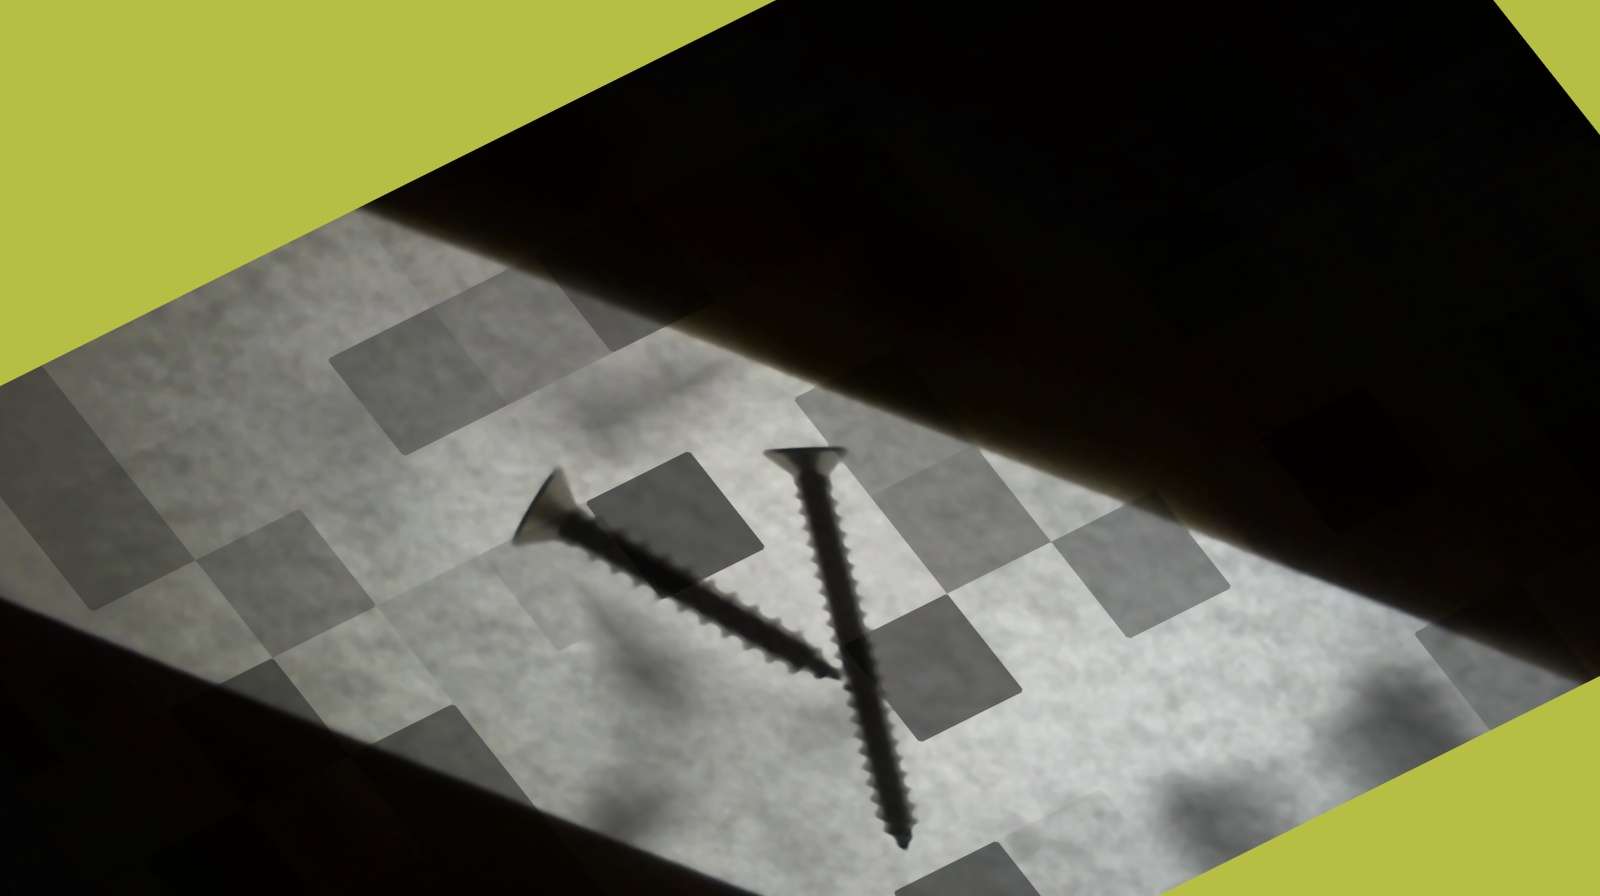S001: (474, 414, 855, 760)
S002: (619, 413, 1095, 860)
